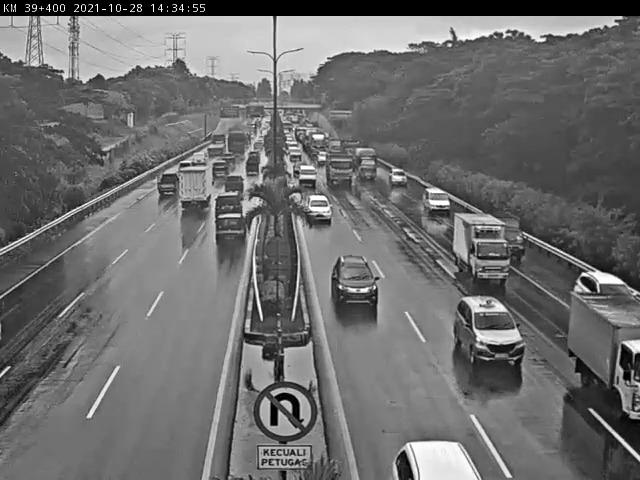big truck: (323, 148, 357, 193), (353, 140, 388, 181)
car: (450, 287, 529, 373), (390, 436, 494, 480), (329, 249, 380, 313), (209, 206, 252, 247), (299, 190, 336, 230), (422, 180, 455, 218), (155, 164, 183, 200), (214, 189, 246, 220), (221, 170, 248, 196), (292, 163, 320, 188), (387, 166, 414, 187)
small truck: (565, 263, 640, 431), (451, 207, 513, 283), (174, 162, 216, 208), (499, 208, 534, 259)
